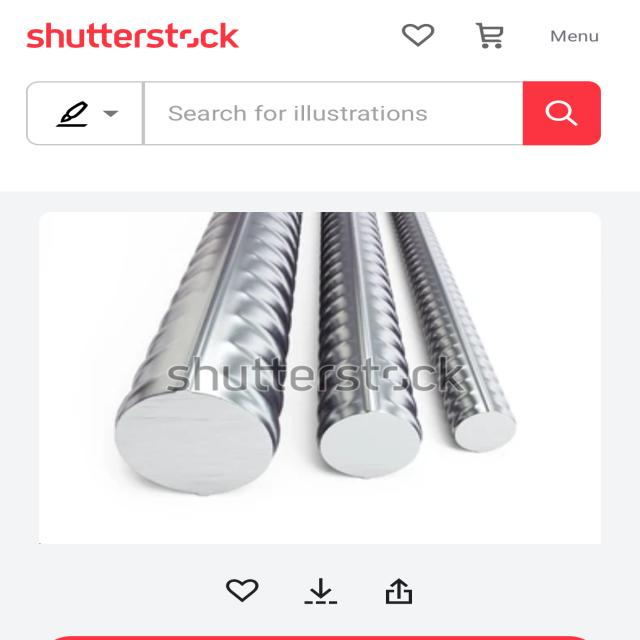Rebar: (110, 394, 279, 498), (311, 415, 425, 488), (452, 415, 522, 455)
